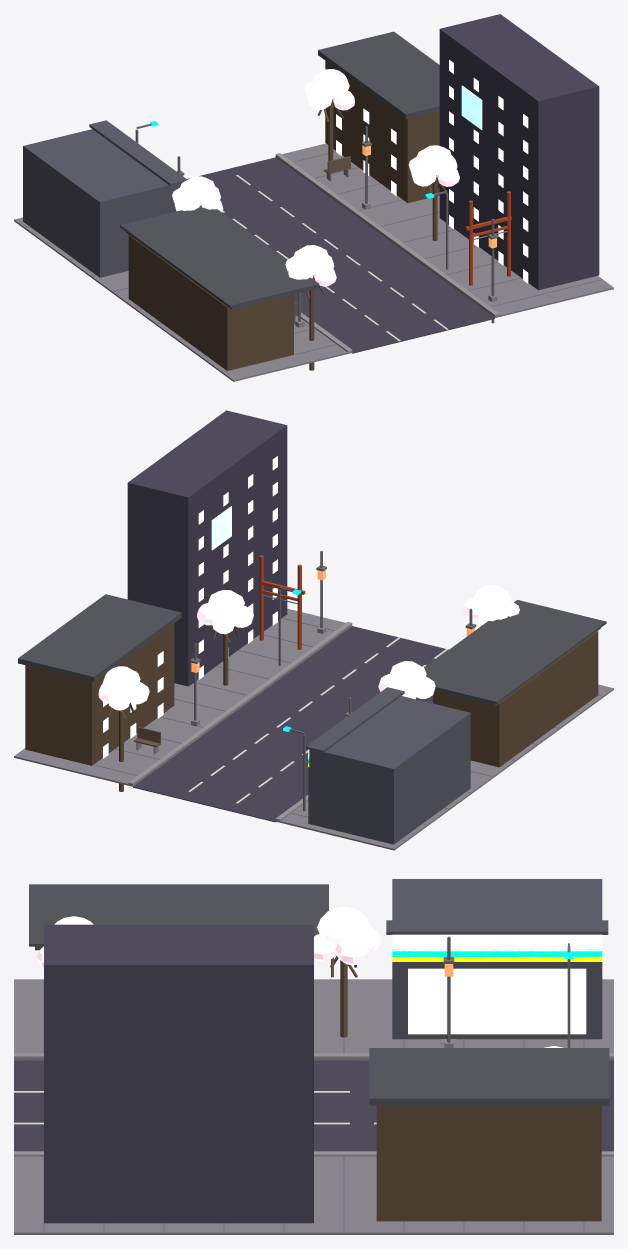
The model's file is env2-1.glb.
3 renders of one model, top to bottom at view 1: azimuth 30°, elevation 25°; view 2: azimuth 150°, elevation 25°; view 3: azimuth 270°, elevation 25°, orthographic. The views are drawn at different scales.
Parts seen in each view (by area): view 1: env2-1; view 2: env2-1; view 3: env2-1.
Part boxes in pixels (left/top/right/bottom): env2-1: left=14, top=14, right=613, bottom=381; env2-1: left=14, top=410, right=613, bottom=850; env2-1: left=14, top=879, right=613, bottom=1234.
Size of the model in its own units: 20 by 11.25 by 20.
